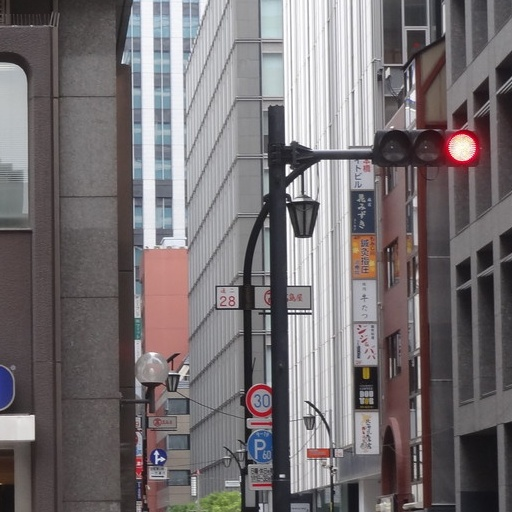Traffic_Signal_Red: (366, 121, 485, 176)
